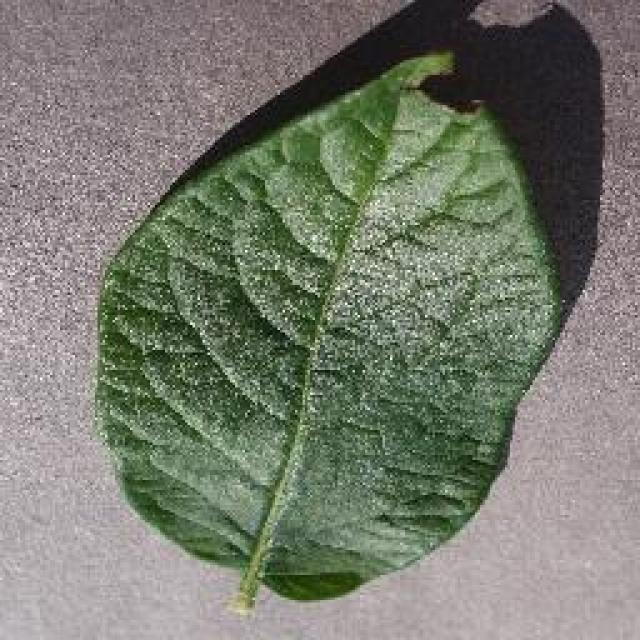healthy: (90, 42, 570, 610)
